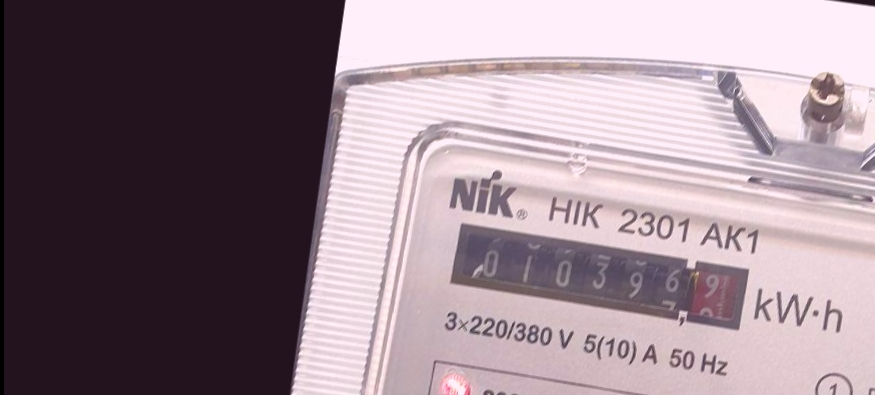0: (550, 254, 576, 290), (477, 244, 502, 279)
1: (518, 250, 535, 284)
3: (588, 257, 611, 293)
6: (660, 263, 685, 295)
9: (622, 266, 646, 302), (697, 270, 722, 302)
screen: (432, 207, 761, 345)
